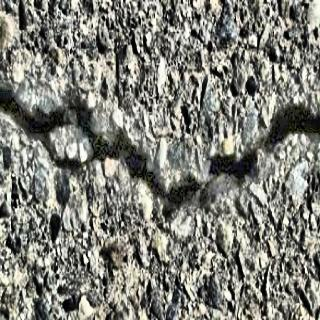crack: (2, 84, 320, 218)
